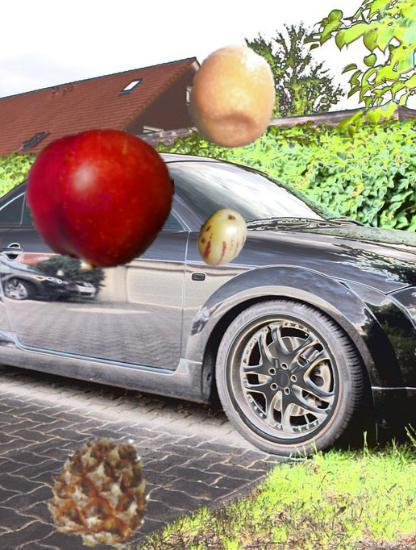Kumquats: (180, 44, 286, 150)
Nectarine: (26, 125, 175, 274)
Pepino: (192, 208, 252, 268)
Pineapple: (41, 432, 158, 549)
